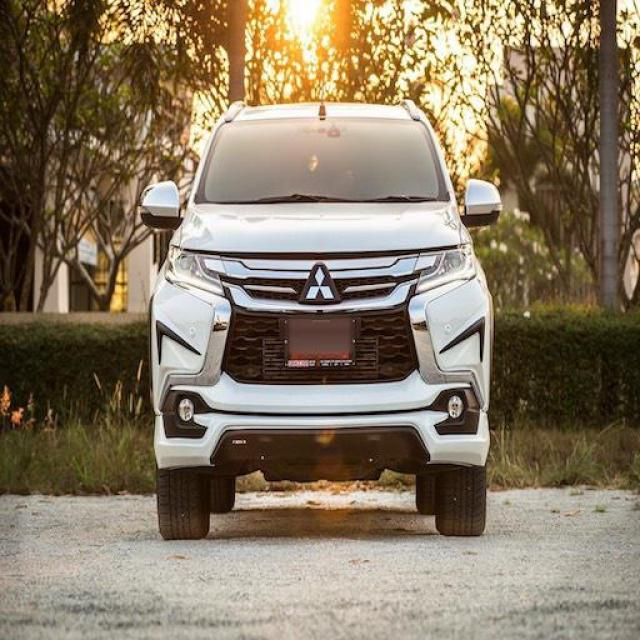front_bumper: (149, 247, 494, 469)
front_glass: (196, 118, 450, 204)
front_left_light: (413, 244, 477, 295)
front_right_light: (166, 247, 227, 296)
hood: (180, 200, 462, 253)
left_mirror: (461, 179, 505, 227)
right_mirror: (141, 182, 186, 230)
wheel: (156, 470, 487, 540)
